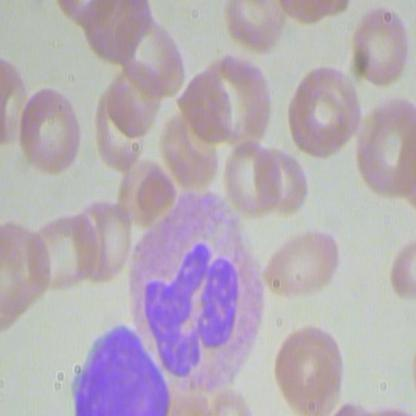RBC: (261, 218, 341, 310), (267, 323, 347, 415), (23, 207, 101, 298), (16, 81, 85, 175), (101, 55, 169, 146), (64, 198, 134, 283), (294, 63, 363, 149), (350, 1, 414, 92), (222, 133, 282, 216), (252, 143, 309, 217)
WBC: (117, 186, 263, 396), (66, 323, 175, 415)
